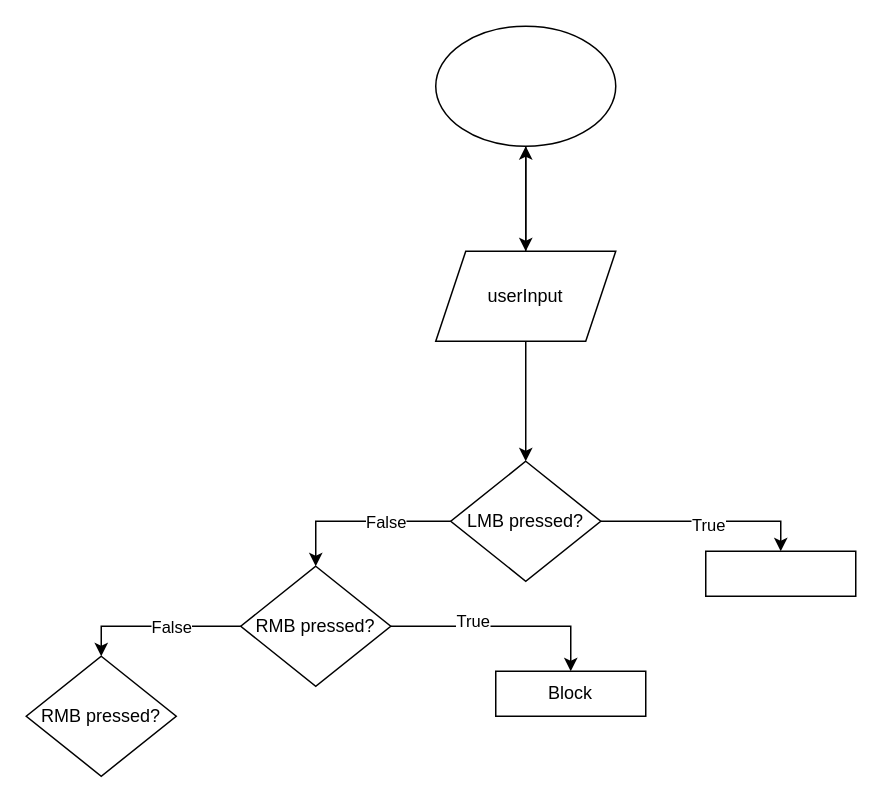
Image size: 882x803. Some labels were removed from this diagram. Each missing label, with the centre of its shape:
"Attack" belongs at (x=780, y=573).
"BEGIN Gameplay" belongs at (x=525, y=85).
